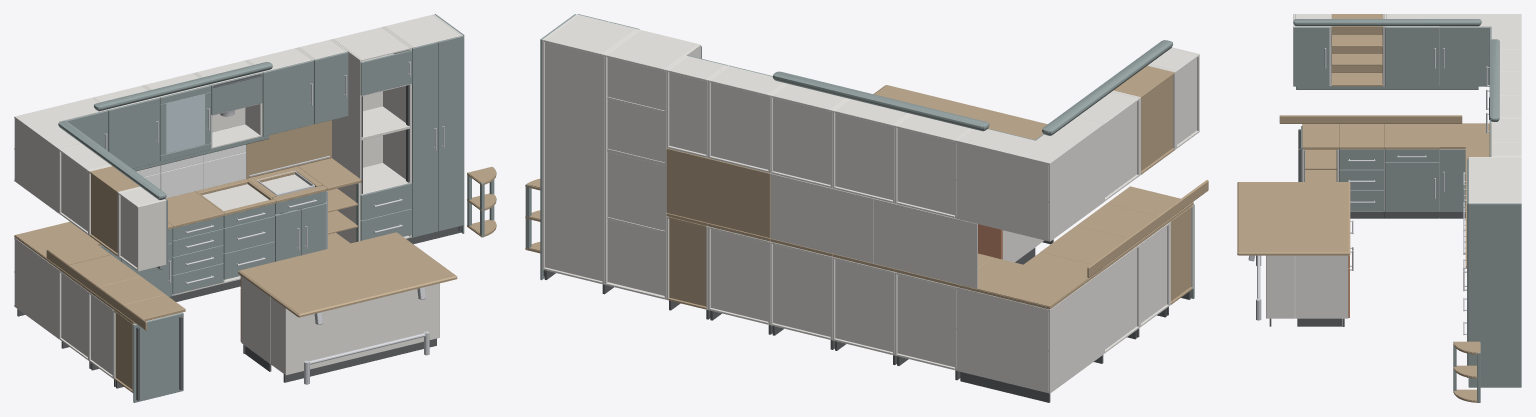
File: kitchenL.glb
3 renders of one model, left to right at view 1: azimuth 30°, elevation 25°; view 2: azimuth 150°, elevation 25°; view 3: azimuth 270°, elevation 25°, orthographic. The views are drawn at different scales.
Parts seen in each view (by area): view 1: 030-island-breakfast-bar/0, 030-island-breakfast-bar/2, 006-tall-600-oven-housing-double/0, 007-tall-600-larder/door-right/front, 007-tall-600-larder/door-left/front, 013-wall-900-corner/0, 021-wall-400/0, 012-end-panel-base/0, 017-wall-600/door-left/front, 000-base-900-corner/0, 028-splashback-panel/0, 014-wall-600/door-left/front (+52 smaller); view 2: 006-tall-600-oven-housing-double/0, 007-tall-600-larder/0, 013-wall-900-corner/0, 000-base-900-corner/0, 028-splashback-panel/0, 027-tile-panel-large-format/0, 026-tile-panel-large-format/0, 017-wall-600/0, 015-wall-600-glazed/0, 016-wall-600-extractor-housing/0, 014-wall-600/0, 004-base-600-sink/0 (+21 smaller); view 3: 008-tall-600-end-panel/0, 030-island-breakfast-bar/2, 030-island-breakfast-bar/0, 020-wall-600-open-shelf/1, 019-wall-600/door-left/front, 013-wall-900-corner/door-return/front, 009-base-600-drawerline/door-left/front, 021-wall-400/door-left/front, 011-base-400-open-shelf/1, 000-base-900-corner/door-return/front, 029-upstand-run/0, 000-base-900-corner/2 (+26 smaller).
Part boxes in pixels (<box>): 030-island-breakfast-bar/0: <box>241,276,439,375</box>; 030-island-breakfast-bar/2: <box>238,232,457,317</box>; 006-tall-600-oven-housing-double/0: <box>332,27,411,240</box>; 007-tall-600-larder/door-right/front: <box>437,36,463,231</box>; 007-tall-600-larder/door-left/front: <box>412,42,437,237</box>; 013-wall-900-corner/0: <box>14,98,107,213</box>; 021-wall-400/0: <box>118,187,166,271</box>; 012-end-panel-base/0: <box>133,312,183,402</box>; 017-wall-600/door-left/front: <box>262,60,313,136</box>; 000-base-900-corner/0: <box>14,237,58,338</box>; 028-splashback-panel/0: <box>246,120,331,178</box>; 014-wall-600/door-left/front: <box>108,98,159,168</box>; 006-tall-600-oven-housing-double/0: <box>604,29,700,299</box>; 007-tall-600-larder/0: <box>542,14,638,284</box>; 013-wall-900-corner/0: <box>956,117,1103,241</box>; 000-base-900-corner/0: <box>956,270,1103,393</box>; 028-splashback-panel/0: <box>666,148,770,237</box>; 027-tile-panel-large-format/0: <box>770,173,873,263</box>; 026-tile-panel-large-format/0: <box>874,198,977,288</box>; 017-wall-600/0: <box>708,66,785,172</box>; 015-wall-600-glazed/0: <box>832,99,910,203</box>; 016-wall-600-extractor-housing/0: <box>770,83,848,188</box>; 014-wall-600/0: <box>894,114,972,218</box>; 004-base-600-sink/0: <box>708,226,770,324</box>; 008-tall-600-end-panel/0: <box>1468,203,1521,387</box>; 030-island-breakfast-bar/2: <box>1237,182,1350,255</box>; 030-island-breakfast-bar/0: <box>1266,255,1348,318</box>; 020-wall-600-open-shelf/1: <box>1331,14,1382,86</box>; 019-wall-600/door-left/front: <box>1385,27,1439,86</box>; 013-wall-900-corner/door-return/front: <box>1439,27,1489,86</box>; 009-base-600-drawerline/door-left/front: <box>1385,162,1439,211</box>; 021-wall-400/door-left/front: <box>1293,27,1329,86</box>; 011-base-400-open-shelf/1: <box>1302,124,1338,181</box>; 000-base-900-corner/door-return/front: <box>1439,149,1465,211</box>; 029-upstand-run/0: <box>1279,115,1462,123</box>; 000-base-900-corner/2: <box>1439,123,1491,157</box>.
Bounding box in the file's own units: 5.32 × 2.28 × 3.12.
